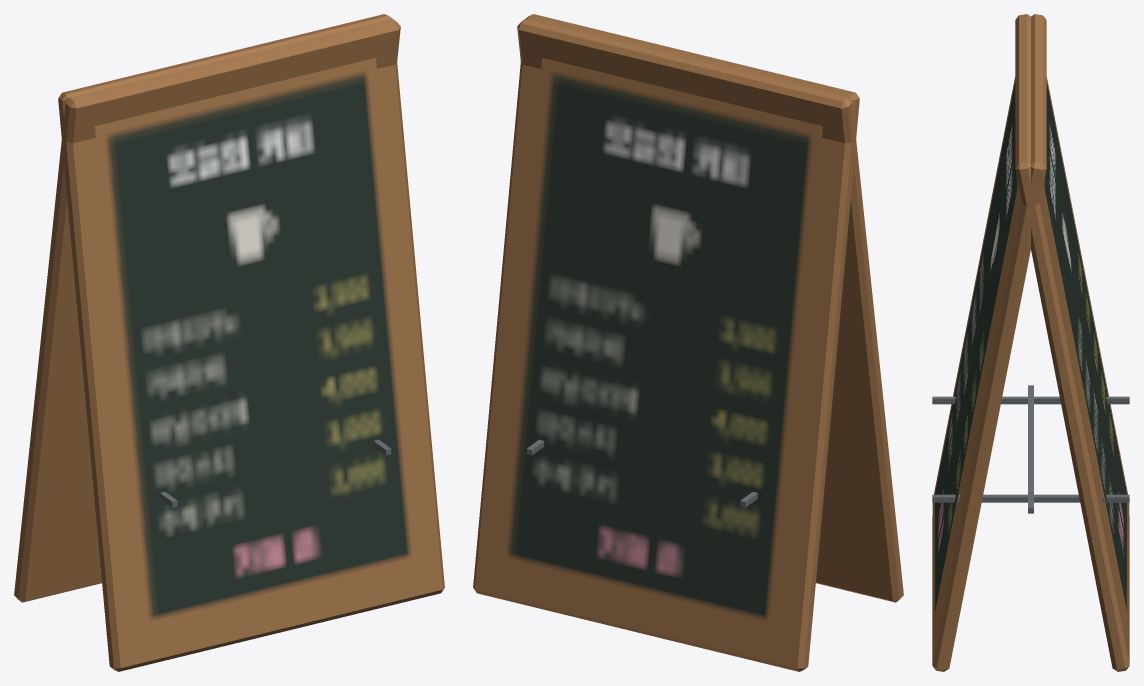
Rendered from SC_Shop_A_Board_Cafe.gltf.
3 renders of one model, left to right at view 1: azimuth 30°, elevation 25°; view 2: azimuth 150°, elevation 25°; view 3: azimuth 270°, elevation 25°, orthographic. The views are drawn at different scales.
Visible parts, largest first — view 1: SC_Shop_A_Board_Cafe; view 2: SC_Shop_A_Board_Cafe; view 3: SC_Shop_A_Board_Cafe.
Part boxes in pixels (box(x1,y1,x2,y2)): SC_Shop_A_Board_Cafe: box(14, 14, 444, 671); SC_Shop_A_Board_Cafe: box(473, 14, 903, 671); SC_Shop_A_Board_Cafe: box(932, 14, 1129, 671).
Bounding box in the file's own units: 0.62 × 0.9675 × 0.34.
2 materials, 2 textured.
